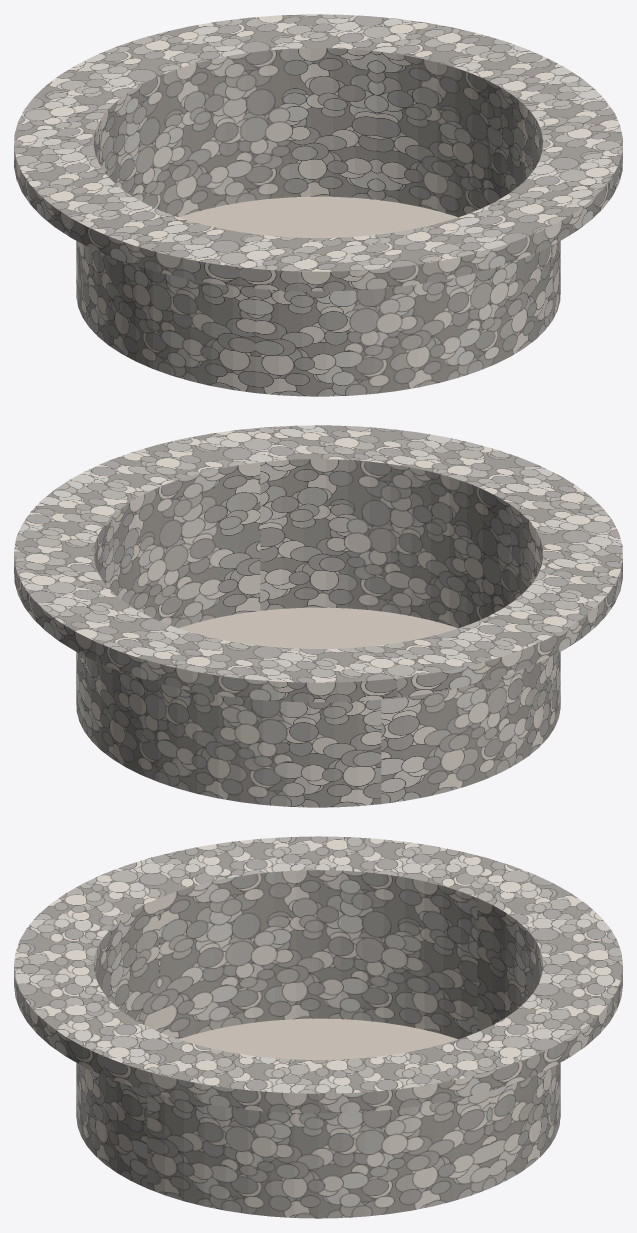
File: poi06_tortugario_preview.glb
3 views of the same model, one above another, from view 1: azimuth 30°, elevation 25°; view 2: azimuth 150°, elevation 25°; view 3: azimuth 270°, elevation 25° (orthographic).
Visible parts, largest first — view 1: muro_vaso_piedra_bola, corona_piedra_bola, fondo_minimo_1m; view 2: muro_vaso_piedra_bola, corona_piedra_bola, fondo_minimo_1m; view 3: muro_vaso_piedra_bola, corona_piedra_bola, fondo_minimo_1m.
Part boxes in pixels (box(x1,y1,x2,y2)): muro_vaso_piedra_bola: box(76, 67, 560, 396); corona_piedra_bola: box(14, 14, 622, 291); fondo_minimo_1m: box(179, 196, 457, 237); muro_vaso_piedra_bola: box(76, 478, 560, 807); corona_piedra_bola: box(14, 425, 622, 702); fondo_minimo_1m: box(179, 607, 457, 648); muro_vaso_piedra_bola: box(76, 890, 560, 1218); corona_piedra_bola: box(14, 836, 622, 1113); fondo_minimo_1m: box(179, 1018, 457, 1059).
Bounding box in the file's own units: 4.2 × 1.15 × 4.2.
Materials: 2 (1 with a texture image).
